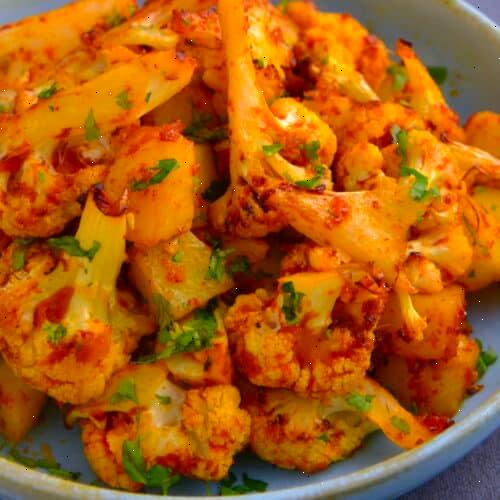aloo gobhi: (0, 3, 500, 461)
